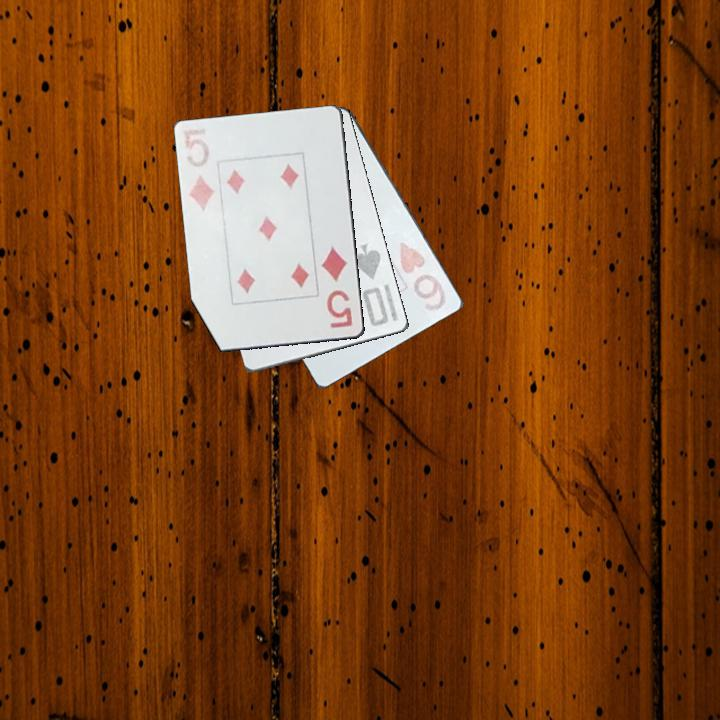5d: (317, 243, 356, 331), (183, 135, 218, 214)
6h: (395, 236, 453, 314)
Ts: (350, 240, 392, 330)
